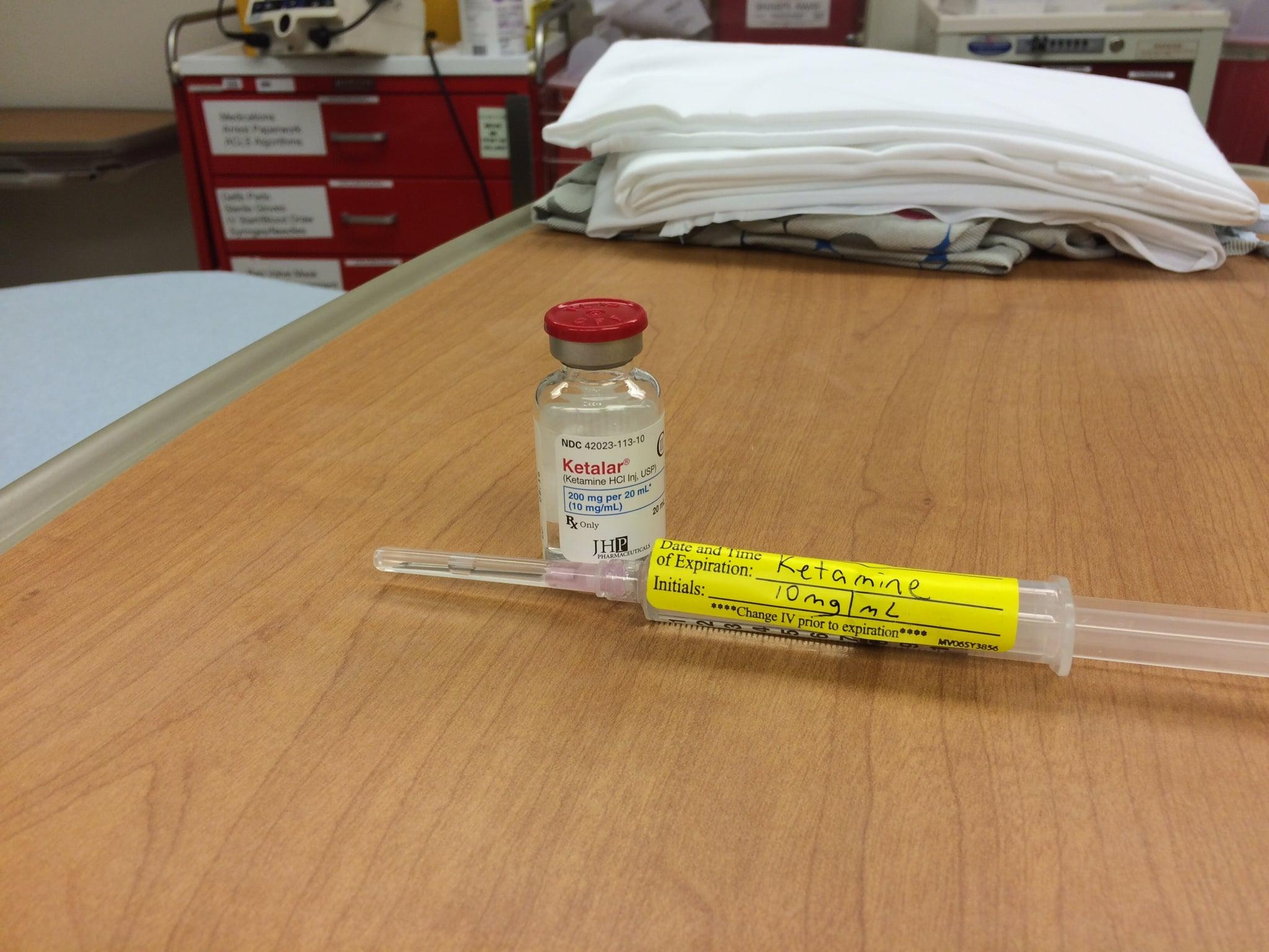Iv_Bottle: (535, 299, 665, 562)
Syringe: (374, 539, 1268, 675)
